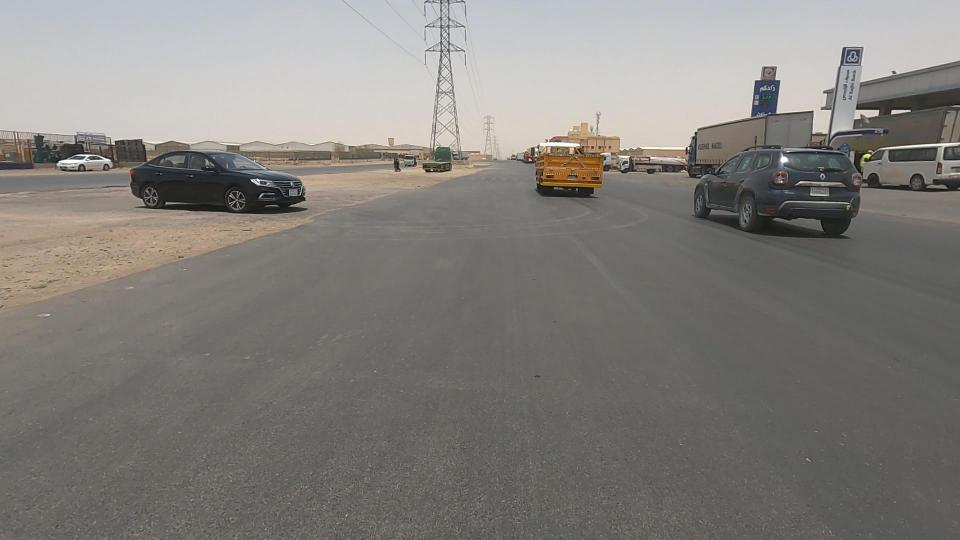CONSTRUCTION_ROAD: (0, 177, 259, 325), (278, 155, 444, 210)
